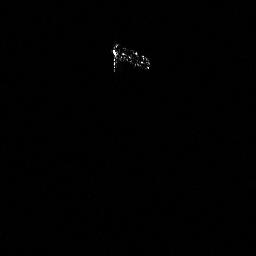ship: (108, 40, 153, 76)
